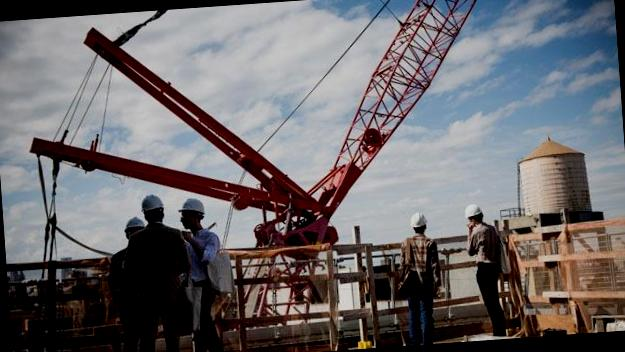helmet: (172, 192, 210, 220), (133, 192, 163, 216), (458, 200, 488, 223), (406, 210, 429, 232)
person: (113, 187, 185, 352), (173, 188, 231, 352), (392, 208, 443, 346), (461, 197, 509, 341)
